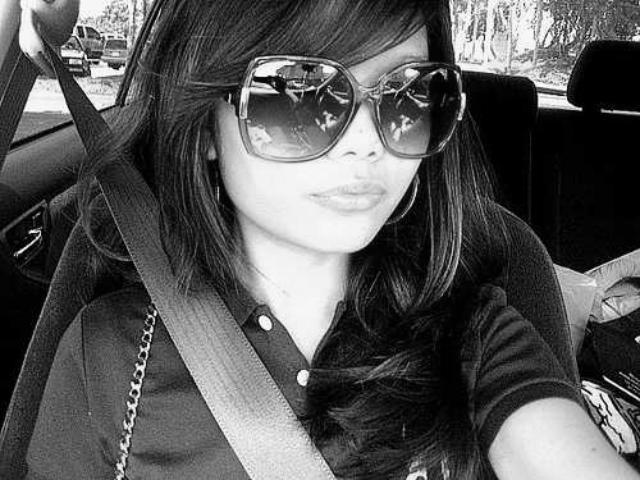Seatbelt: (20, 4, 344, 480)
